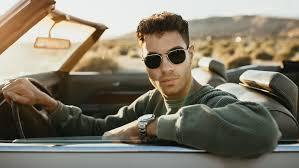sunglasses: (137, 46, 192, 68)
